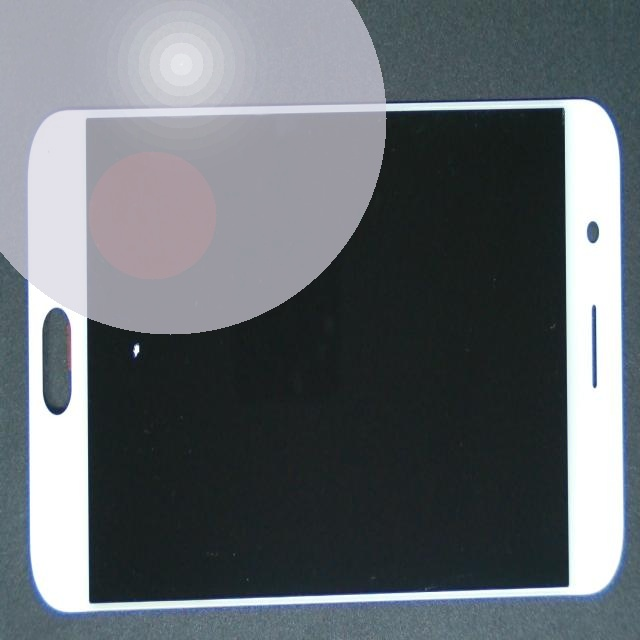stain: (68, 125, 198, 511)
